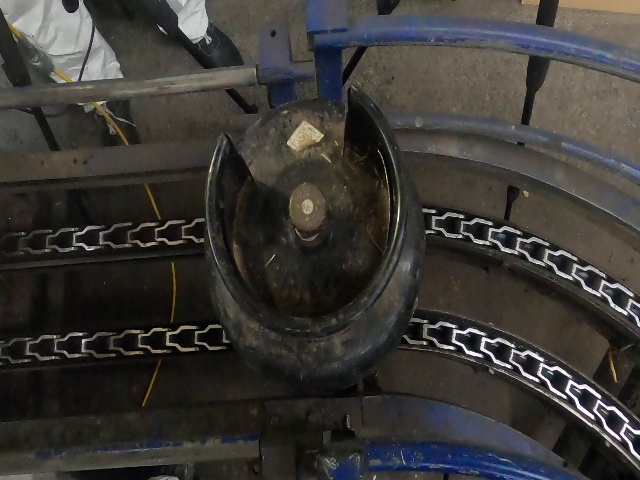gas_bottle: (0, 3, 639, 480)
